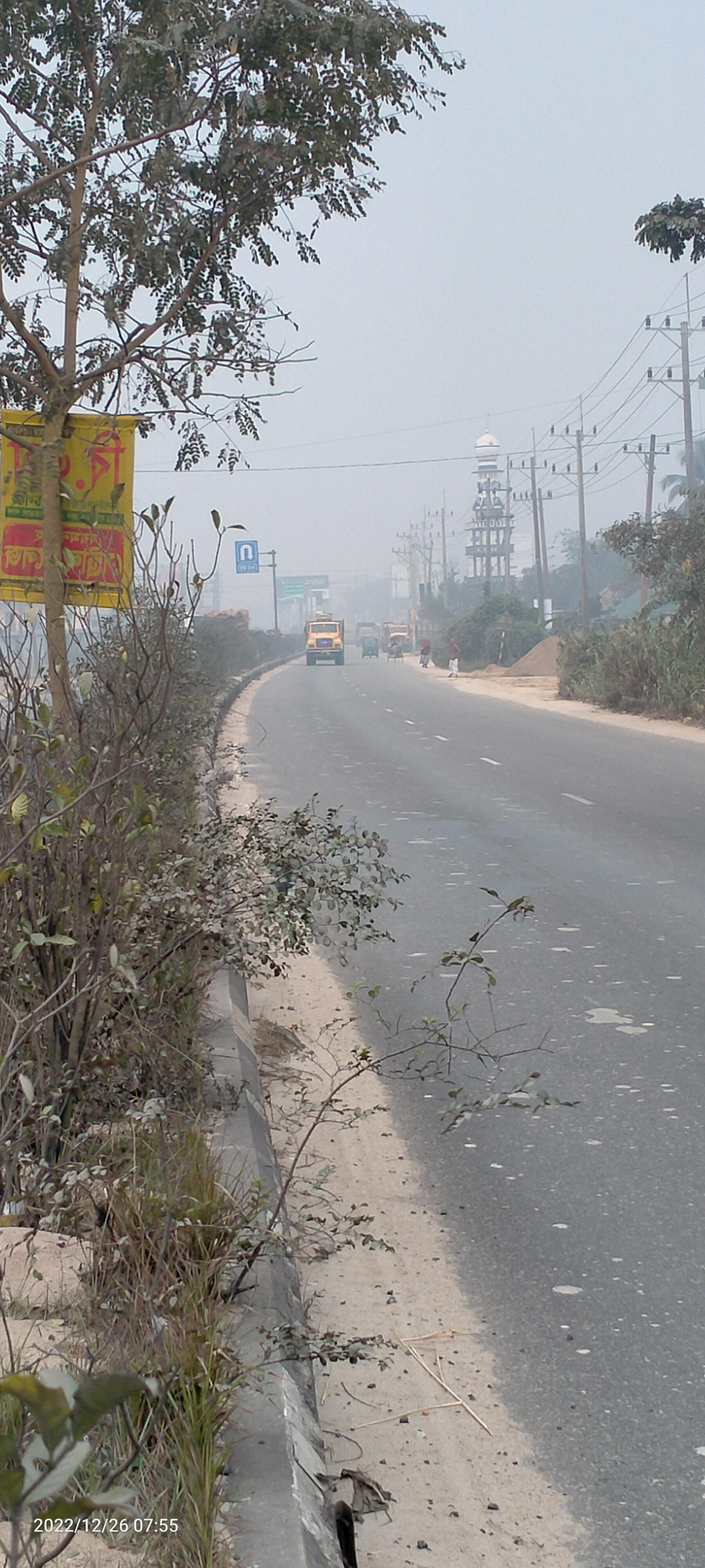Truck: (296, 610, 348, 672)
